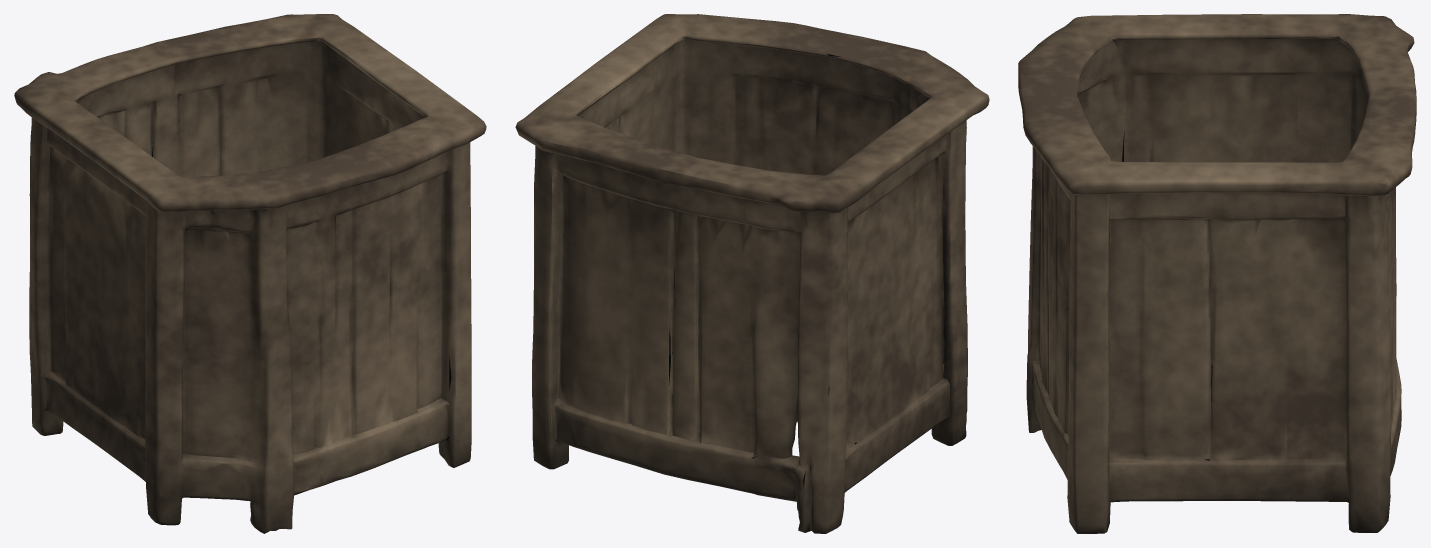
Rendered from wooden-planter-box-v002.glb.
The picture shows the model from 3 angles, left to right: view 1: azimuth 30°, elevation 25°; view 2: azimuth 150°, elevation 25°; view 3: azimuth 270°, elevation 25°; orthographic projection. The views are drawn at different scales.
Visible parts, largest first — view 1: wooden-planter-box; view 2: wooden-planter-box; view 3: wooden-planter-box.
Boxes of the visible parts, x1,y1,x2,y2 form: wooden-planter-box: [14, 14, 486, 533]; wooden-planter-box: [515, 14, 989, 533]; wooden-planter-box: [1018, 14, 1416, 533].
Bounding box in the file's own units: 0.4958 × 0.5003 × 0.4945.
Materials: 1 (1 with a texture image).
